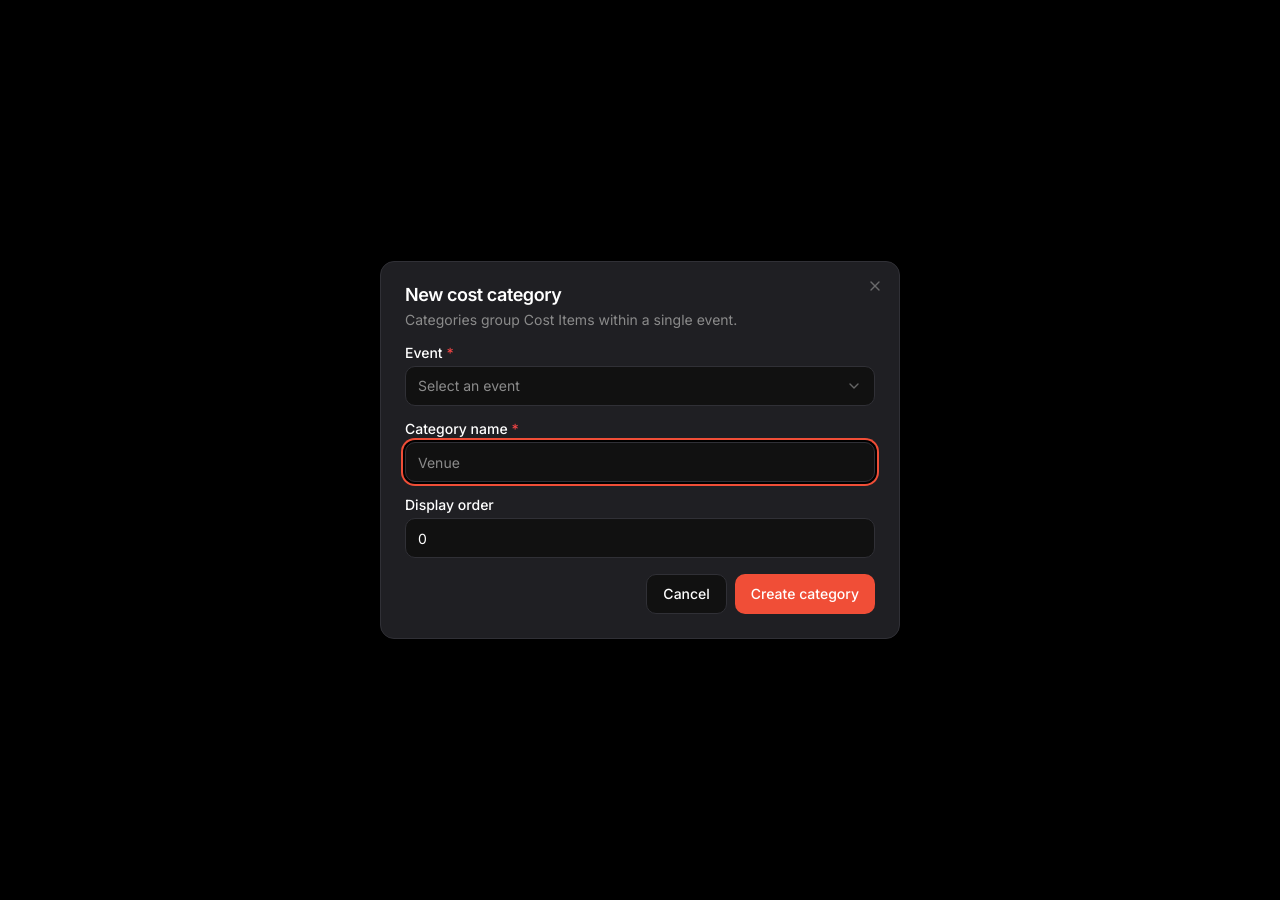
Test case: cost categories feature › shows a validation error when category name is empty
Click the button "Create category": x=805, y=594 [735,574,875,614]
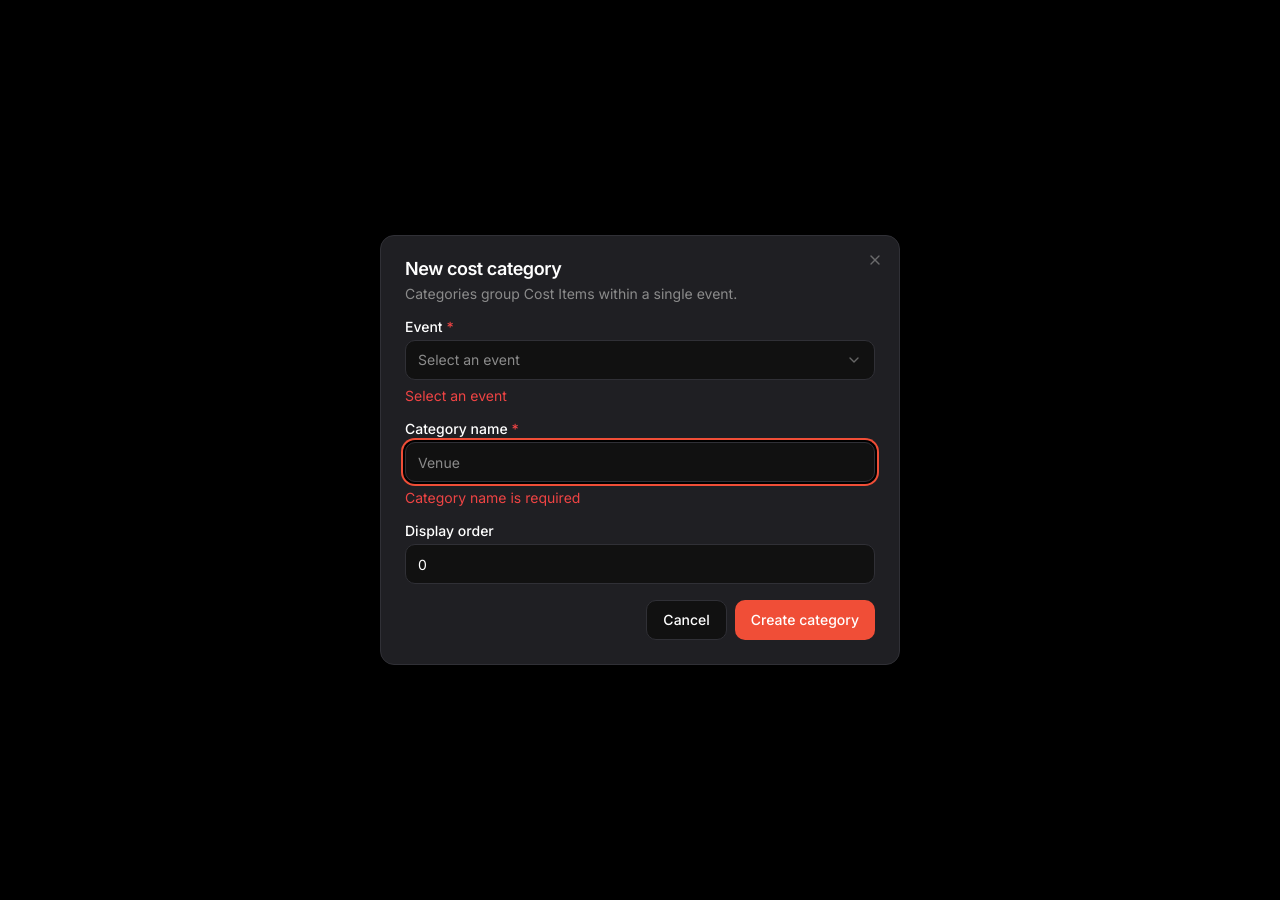
Expected: the text "Category name is required" is shown, [405,489,580,506]
